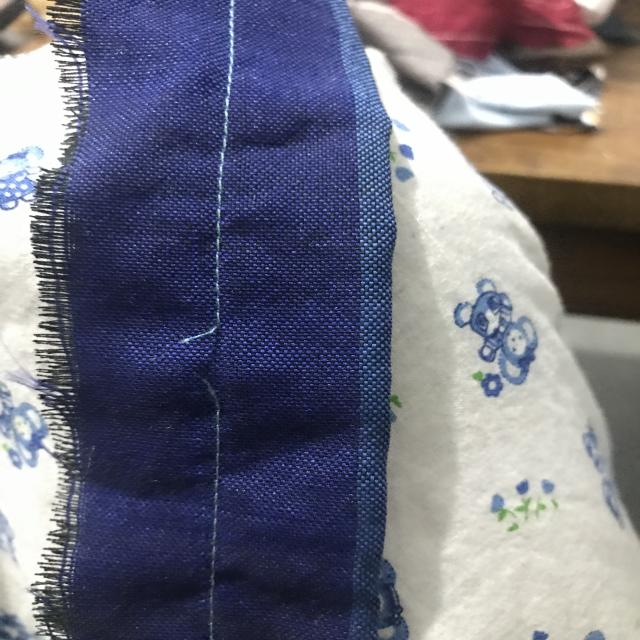broken: (177, 307, 264, 410)
